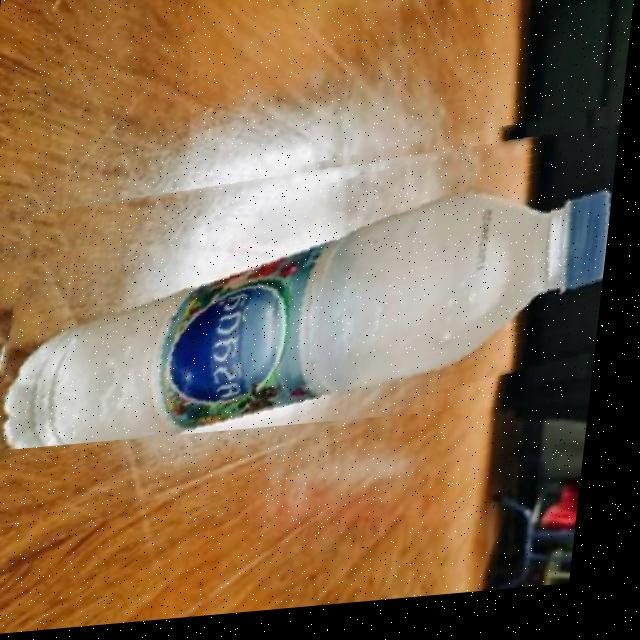litter: (0, 133, 624, 453), (471, 183, 619, 359)
